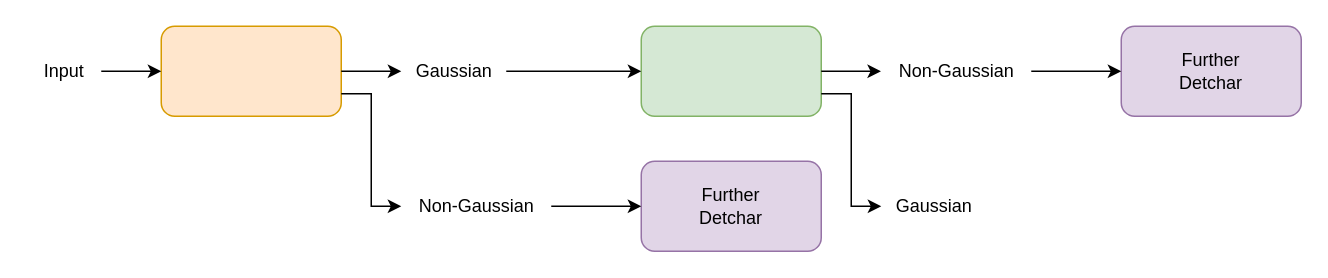
Image size: 1328x278. Some labels were removed from this diagram. The box of each missing label's shape, as (x1, y1, x2, y2) in pixels:
Test with Bandpass Filter Applied: (640, 25, 821, 116)
Test without Bandpass Filter Applied: (160, 25, 341, 116)
